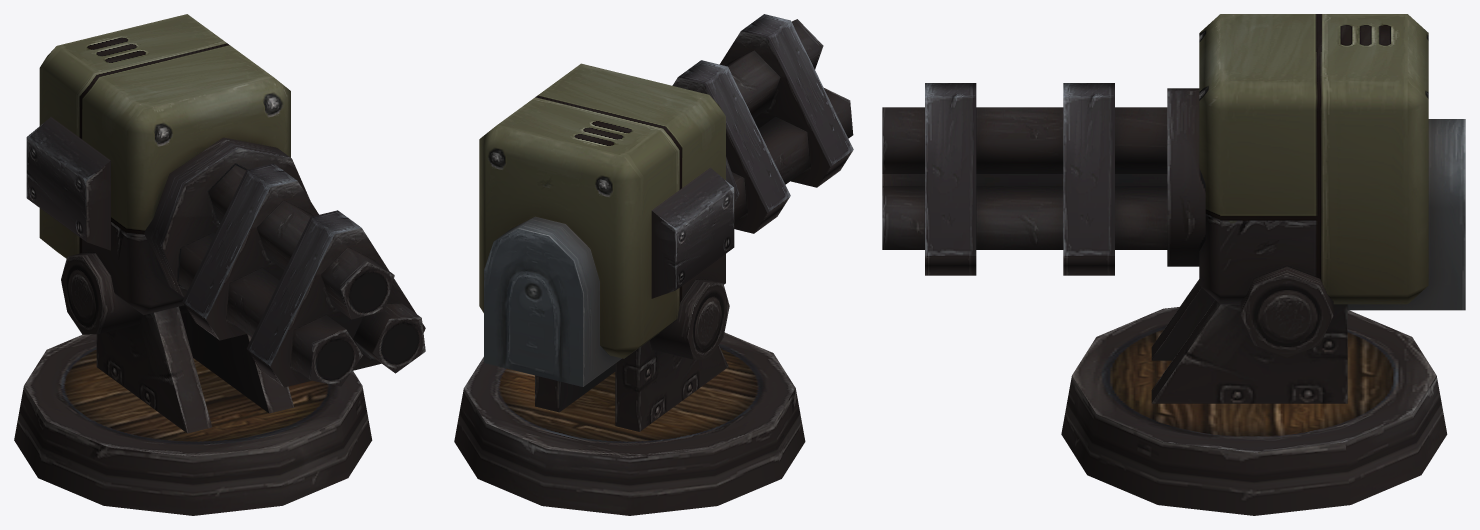
Rendered from Tow_Gatling1.fbx.
3 views of the same model, side by side, from view 1: azimuth 30°, elevation 25°; view 2: azimuth 150°, elevation 25°; view 3: azimuth 270°, elevation 25° (orthographic). The views are drawn at different scales.
Parts seen in each view (by area): view 1: Base, Turret, Barrel; view 2: Turret, Base, Barrel; view 3: Turret, Base, Barrel.
Part boxes in pixels (x1,y1,x2,y2): Base: (14, 253, 372, 515); Turret: (26, 14, 290, 314); Barrel: (144, 137, 425, 387); Turret: (479, 63, 734, 386); Base: (454, 280, 805, 515); Barrel: (672, 14, 853, 233); Turret: (1199, 14, 1465, 310); Base: (1061, 266, 1447, 515); Barrel: (882, 83, 1205, 275).
Size of the model in its own units: 1.03 by 1.14 by 1.56.
Materials: 1 (1 with a texture image).
